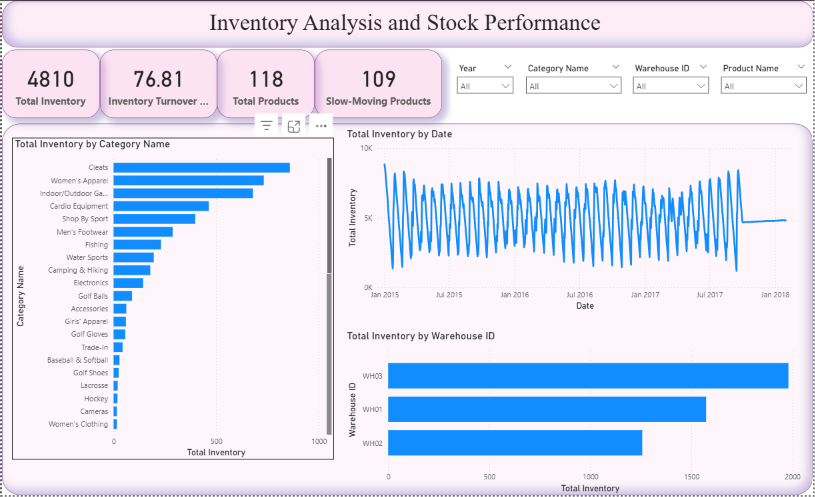

The page's visual inventory and layout, read from the dashboard file:
{"tool":"powerbi","page":{"name":"milestone4","canvas":[1400,810],"ordinal":6},"visuals":[{"type":"textbox","box":[0,0,1392,80],"z":0},{"type":"card","fields":{"Values":["FactWarehouse.Warehouse Picking Accuracy %"]},"box":[0,80,288,96],"z":1000},{"type":"card","fields":{"Values":["FactWarehouse.Warehouse Operating Cost"]},"box":[288,80,256,96],"z":2000},{"type":"card","fields":{"Values":["FactWarehouse.Warehouse Total Orders"]},"box":[544,80,224,96],"z":3000},{"type":"slicer","fields":{"Values":["DimDate.Date"]},"box":[768,80,240,96],"z":4000},{"type":"slicer","fields":{"Values":["DimWarehouse.Warehouse"]},"box":[1008,80,128,128],"z":5000},{"type":"slicer","fields":{"Values":["FactWarehouse.Zone"]},"box":[1136,80,128,144],"z":6000},{"type":"slicer","fields":{"Values":["FactWarehouse.Order Type"]},"box":[1264,80,128,128],"z":7000},{"type":"actionButton","box":[0,0,100,40],"z":8000},{"type":"lineChart","fields":{"Category":["DimDate.Year Month"],"Y":["FactWarehouse.Warehouse Total Orders"]},"box":[0,192,656,352],"z":9000},{"type":"clusteredColumnChart","fields":{"Category":["DimWarehouse.Warehouse"],"Y":["FactWarehouse.Warehouse Total Orders"]},"box":[0,554,656,256],"z":10000},{"type":"clusteredBarChart","fields":{"Category":["DimWarehouse.Warehouse"],"Y":["FactOrders.On-Time Delivery %"]},"box":[672,192,448,352],"z":11000},{"type":"clusteredBarChart","fields":{"Category":["DimWarehouse.Warehouse"],"Y":["FactWarehouse.Warehouse Picking Accuracy %"]},"box":[672,554,720,256],"z":12000},{"type":"clusteredColumnChart","fields":{"Category":["DimWarehouse.Warehouse"],"Y":["FactInventory.Total Inventory"]},"box":[1136,224,256,320],"z":13000}]}

Visuals, with their boxes on the page's 1400x810 design canvas (x1, y1, x2, y2). These are canvas units, not pixel positions in the 815x497 screenshot, which may show the page scaled, cropped or inside an application window:
textbox: {"left": 0, "top": 0, "right": 1392, "bottom": 80}
card - FactWarehouse.Warehouse Picking Accuracy %: {"left": 0, "top": 80, "right": 288, "bottom": 176}
card - FactWarehouse.Warehouse Operating Cost: {"left": 288, "top": 80, "right": 544, "bottom": 176}
card - FactWarehouse.Warehouse Total Orders: {"left": 544, "top": 80, "right": 768, "bottom": 176}
slicer - DimDate.Date: {"left": 768, "top": 80, "right": 1008, "bottom": 176}
slicer - DimWarehouse.Warehouse: {"left": 1008, "top": 80, "right": 1136, "bottom": 208}
slicer - FactWarehouse.Zone: {"left": 1136, "top": 80, "right": 1264, "bottom": 224}
slicer - FactWarehouse.Order Type: {"left": 1264, "top": 80, "right": 1392, "bottom": 208}
actionButton: {"left": 0, "top": 0, "right": 100, "bottom": 40}
lineChart - DimDate.Year Month x FactWarehouse.Warehouse Total Orders: {"left": 0, "top": 192, "right": 656, "bottom": 544}
clusteredColumnChart - DimWarehouse.Warehouse x FactWarehouse.Warehouse Total Orders: {"left": 0, "top": 554, "right": 656, "bottom": 810}
clusteredBarChart - DimWarehouse.Warehouse x FactOrders.On-Time Delivery %: {"left": 672, "top": 192, "right": 1120, "bottom": 544}
clusteredBarChart - DimWarehouse.Warehouse x FactWarehouse.Warehouse Picking Accuracy %: {"left": 672, "top": 554, "right": 1392, "bottom": 810}
clusteredColumnChart - DimWarehouse.Warehouse x FactInventory.Total Inventory: {"left": 1136, "top": 224, "right": 1392, "bottom": 544}
